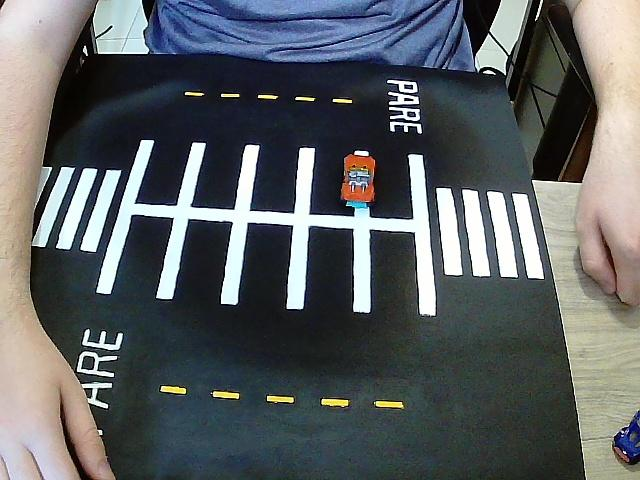Carro: (341, 152, 376, 209), (612, 407, 639, 468)
